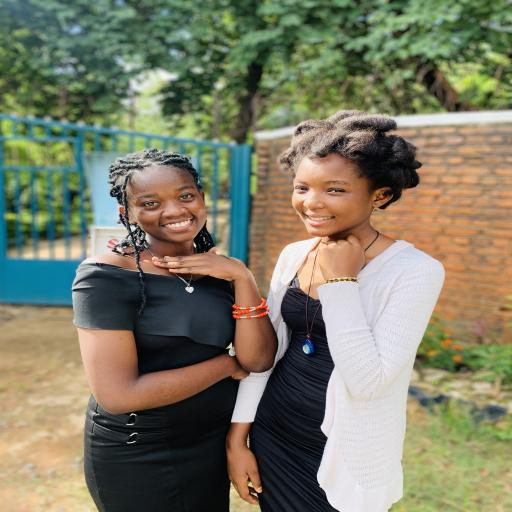LAURENE: (105, 144, 223, 248)
